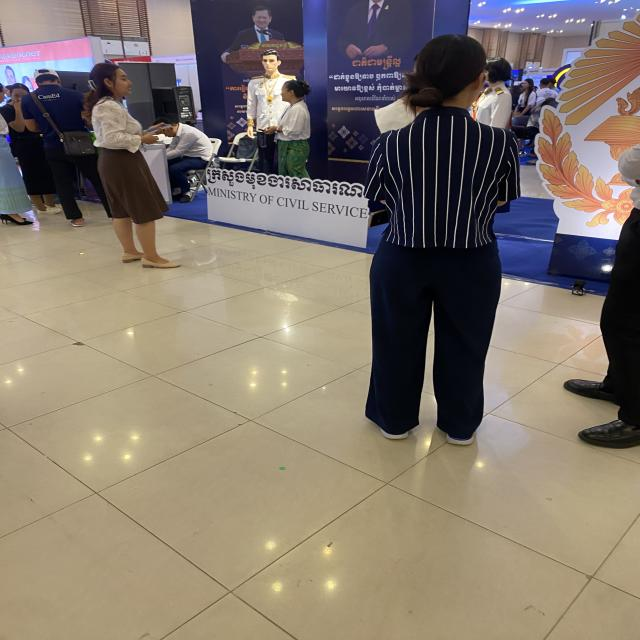1: (330, 81, 405, 94), (330, 70, 406, 82)
Yolov11kh: (204, 165, 367, 205), (348, 53, 403, 71), (352, 92, 400, 103), (328, 105, 376, 115), (226, 83, 248, 93)
